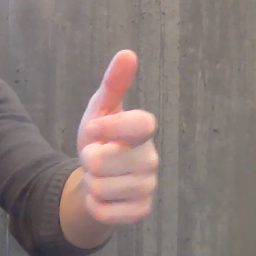G: (73, 47, 163, 225)
